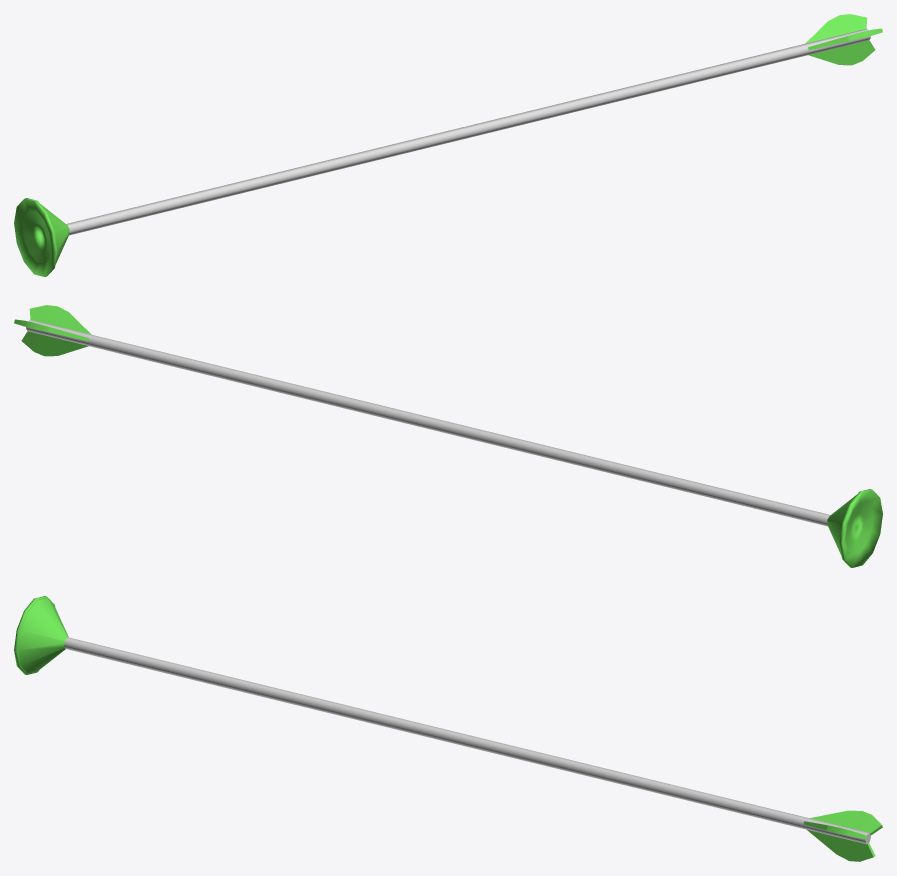
Rendered from arrow_3.fbx.
3 views of the same model, one above another, from view 1: azimuth 30°, elevation 25°; view 2: azimuth 150°, elevation 25°; view 3: azimuth 330°, elevation 25° (orthographic).
Parts seen in each view (by area): view 1: arrow_3; view 2: arrow_3; view 3: arrow_3.
Boxes of the visible parts, x1,y1,x2,y2 form: arrow_3: (14,14,882,276); arrow_3: (14,305,882,567); arrow_3: (14,596,882,861).
Size of the model in its own units: 80.46 by 6.75 by 6.75.
